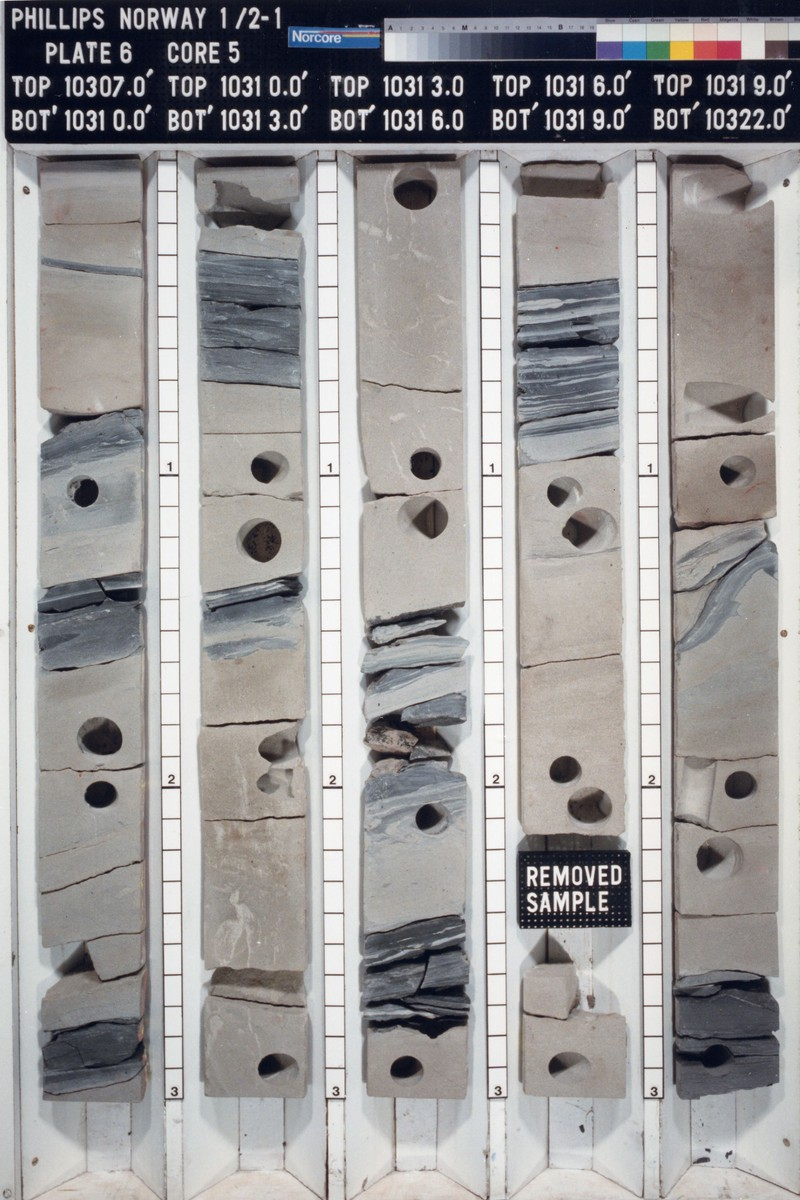core: (352, 163, 478, 1101), (194, 164, 318, 1104), (35, 157, 152, 1108), (665, 161, 778, 1100), (508, 164, 635, 847), (523, 961, 631, 1101)
